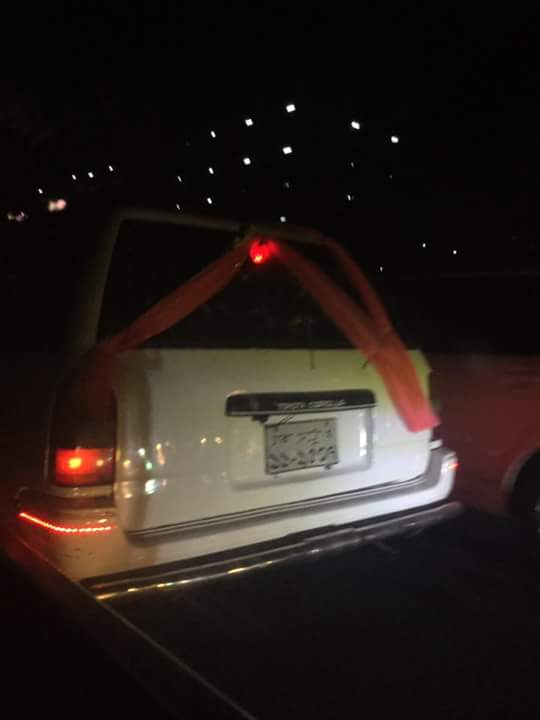registration_plate: (262, 418, 340, 474)
